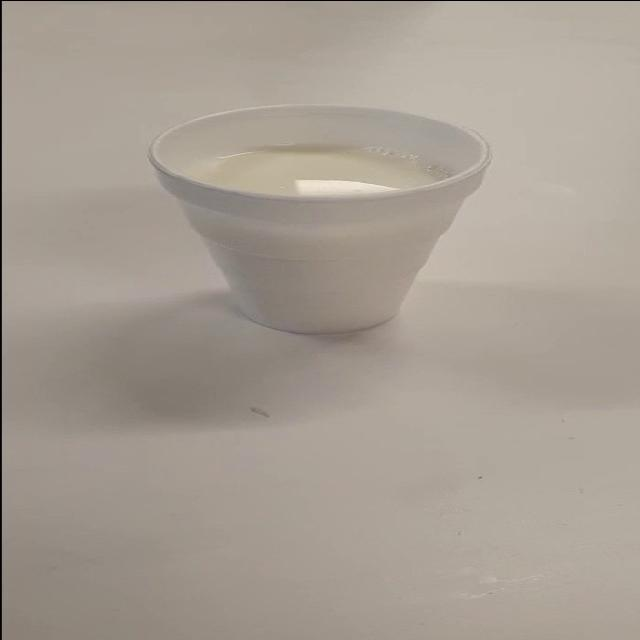Milk: (122, 92, 546, 345)
